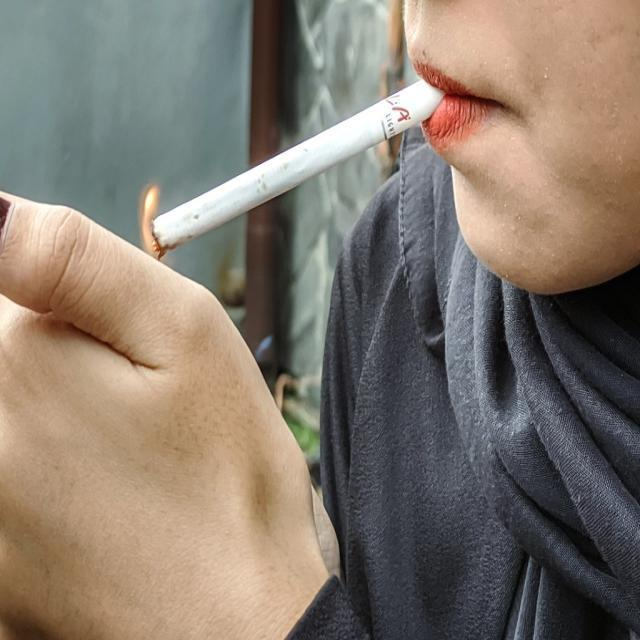rokok: (145, 76, 449, 270)
